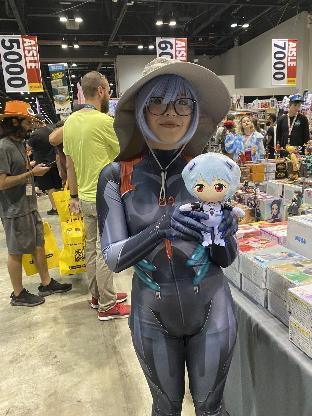rei-plush: (179, 146, 253, 254)
